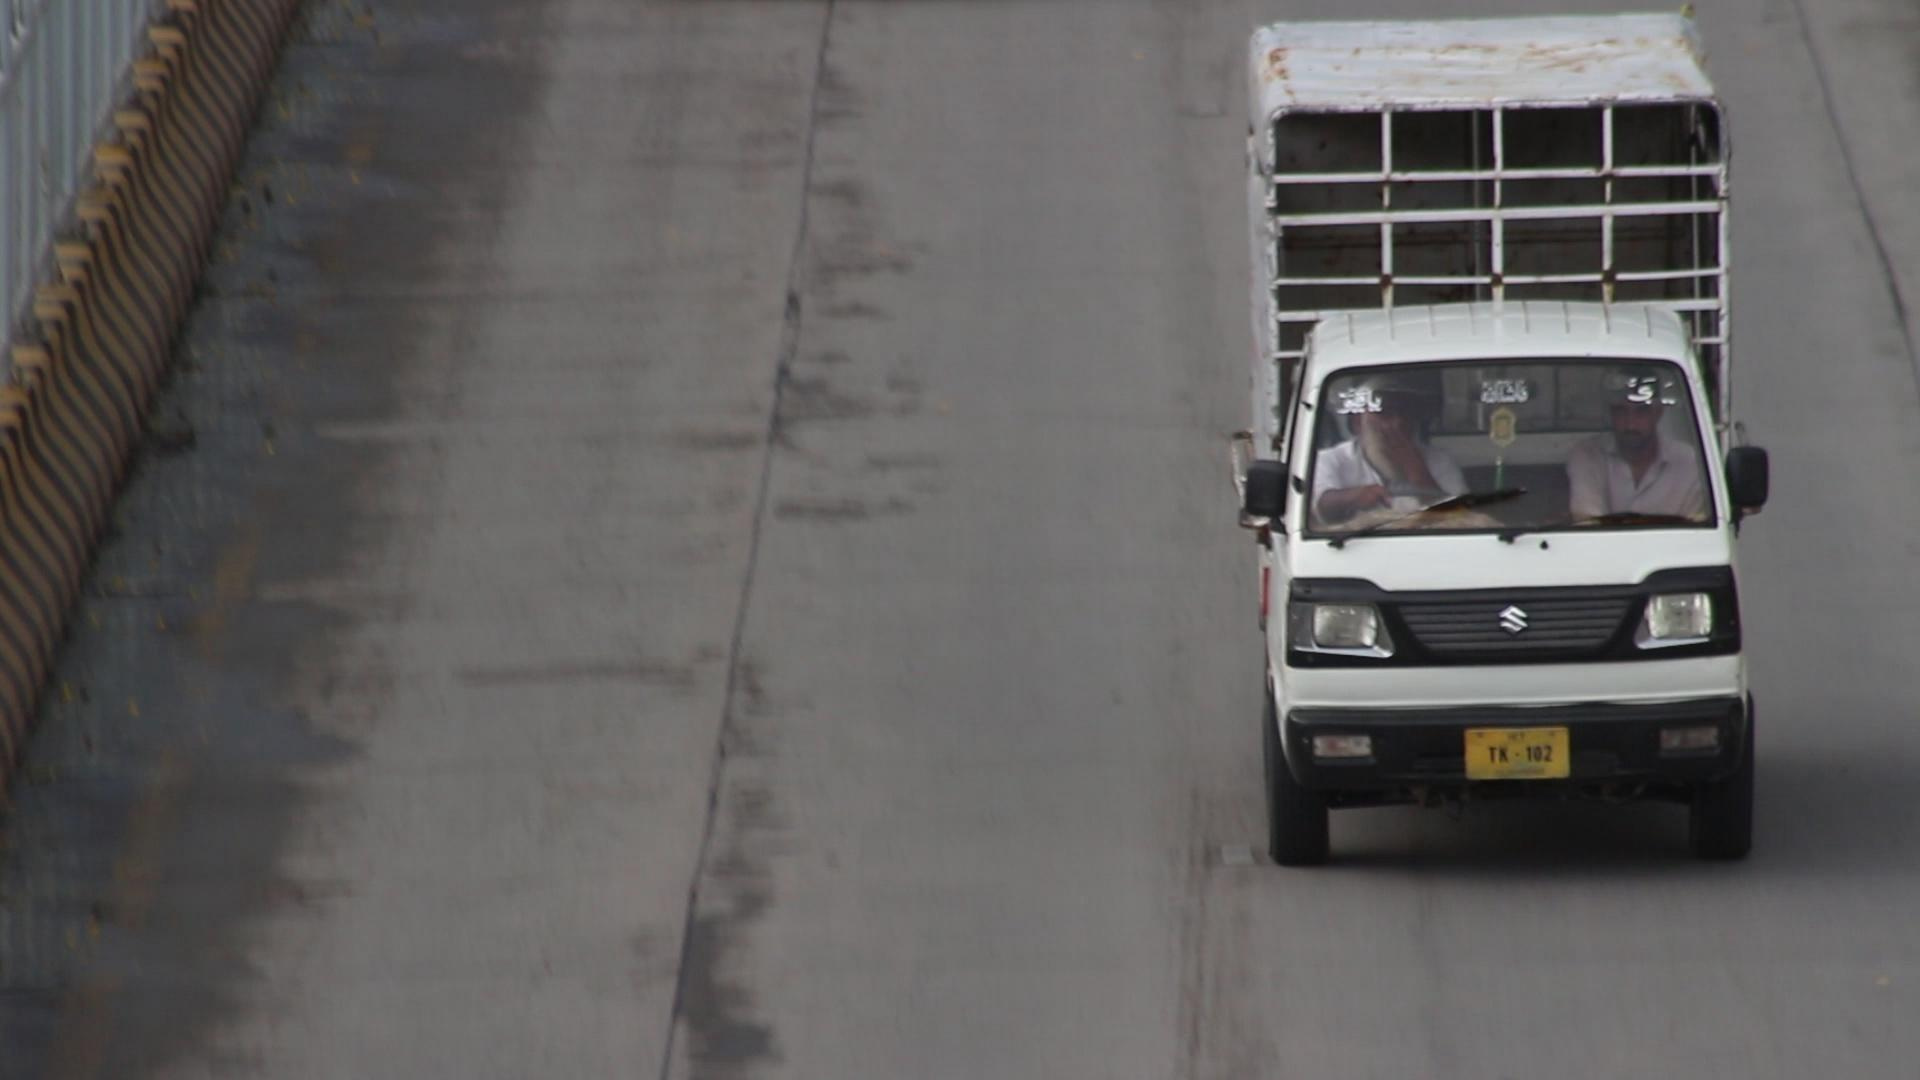windshield: (1287, 347, 1734, 537)
